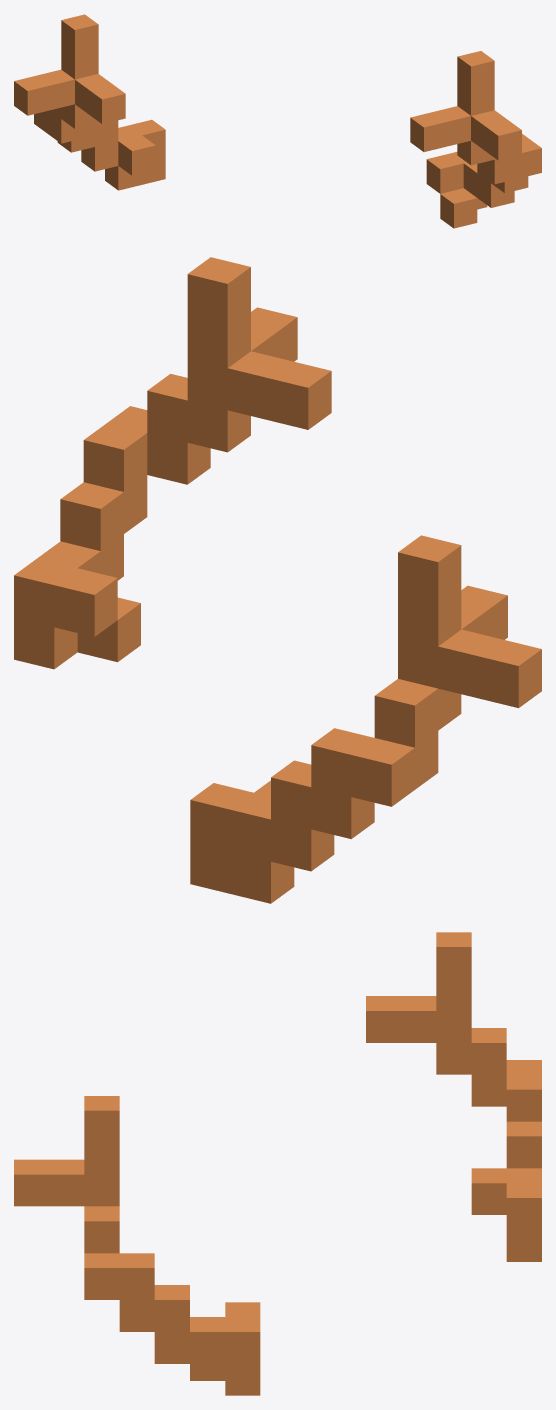
The model's file is Smol-EVIL-0.obj.
3 renders of one model, top to bottom at view 1: azimuth 30°, elevation 25°; view 2: azimuth 150°, elevation 25°; view 3: azimuth 270°, elevation 25°, orthographic. The views are drawn at different scales.
Bounding box in the file's own units: 1.6 × 0.8 × 1.5.
1 material, 1 textured.
